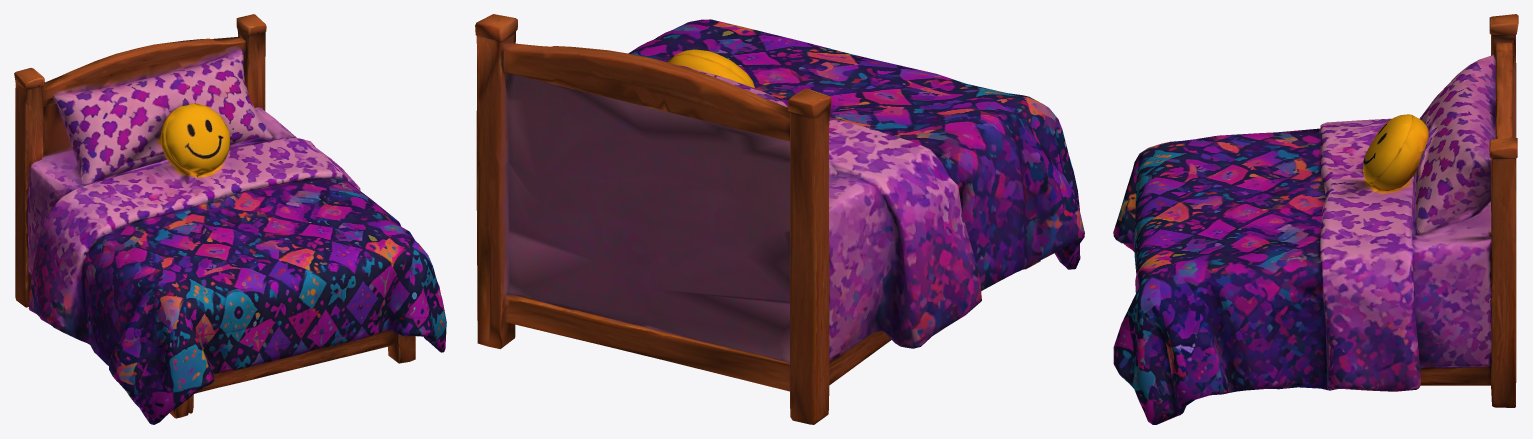
The model's file is bed.glb.
3 renders of one model, left to right at view 1: azimuth 30°, elevation 25°; view 2: azimuth 150°, elevation 25°; view 3: azimuth 270°, elevation 25°, orthographic. The views are drawn at different scales.
Visible parts, largest first — view 1: tripo_node_e00ecf7d-ac29-453b-b093-5d77311e1122; view 2: tripo_node_e00ecf7d-ac29-453b-b093-5d77311e1122; view 3: tripo_node_e00ecf7d-ac29-453b-b093-5d77311e1122.
Boxes of the visible parts, x1,y1,x2,y2 form: tripo_node_e00ecf7d-ac29-453b-b093-5d77311e1122: (14, 14, 446, 424); tripo_node_e00ecf7d-ac29-453b-b093-5d77311e1122: (475, 14, 1084, 424); tripo_node_e00ecf7d-ac29-453b-b093-5d77311e1122: (1113, 14, 1518, 424).
Bounding box in the file's own units: 0.9791 × 0.6505 × 0.9141.
Materials: 1 (1 with a texture image).
